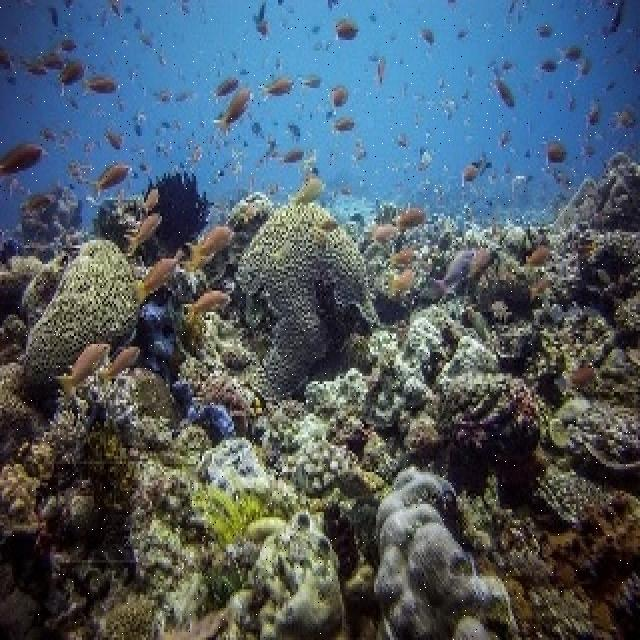fish: (58, 343, 112, 393), (433, 248, 476, 297), (187, 227, 236, 268), (209, 88, 248, 139), (184, 287, 232, 326), (140, 256, 181, 300), (90, 163, 134, 204), (123, 213, 162, 259), (0, 143, 45, 175), (100, 346, 139, 382), (50, 60, 87, 94), (207, 403, 235, 437), (83, 75, 122, 96), (394, 207, 428, 229), (140, 300, 172, 321)
reefs: (236, 202, 384, 399), (0, 239, 138, 418)
